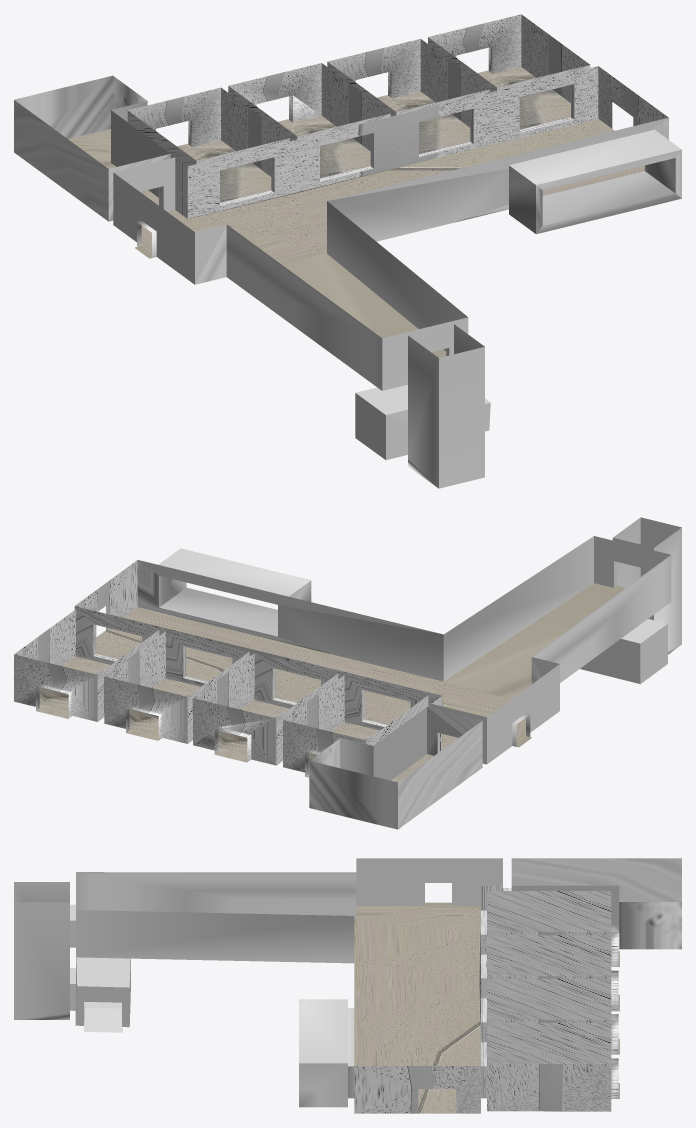
File: SecretRoom.fbx
The picture shows the model from 3 angles, top to bottom: view 1: azimuth 30°, elevation 25°; view 2: azimuth 150°, elevation 25°; view 3: azimuth 270°, elevation 25°; orthographic projection. The views are drawn at different scales.
Parts seen in each view (by area): view 1: SecretLaboratoryWall, SecretLaboratoryFloor; view 2: SecretLaboratoryWall, SecretLaboratoryFloor; view 3: SecretLaboratoryWall, SecretLaboratoryFloor, SecretLaboratoryWall.001.
Boxes of the visible parts, <box> form: SecretLaboratoryWall: <box>14,14,681,488</box>; SecretLaboratoryFloor: <box>68,67,644,357</box>; SecretLaboratoryWall: <box>14,517,681,829</box>; SecretLaboratoryFloor: <box>36,583,625,782</box>; SecretLaboratoryWall: <box>14,858,681,1113</box>; SecretLaboratoryFloor: <box>354,902,619,1113</box>; SecretLaboratoryWall.001: <box>84,1007,122,1032</box>.
Bounding box in the file's own units: 6565 × 1711 × 8787.
